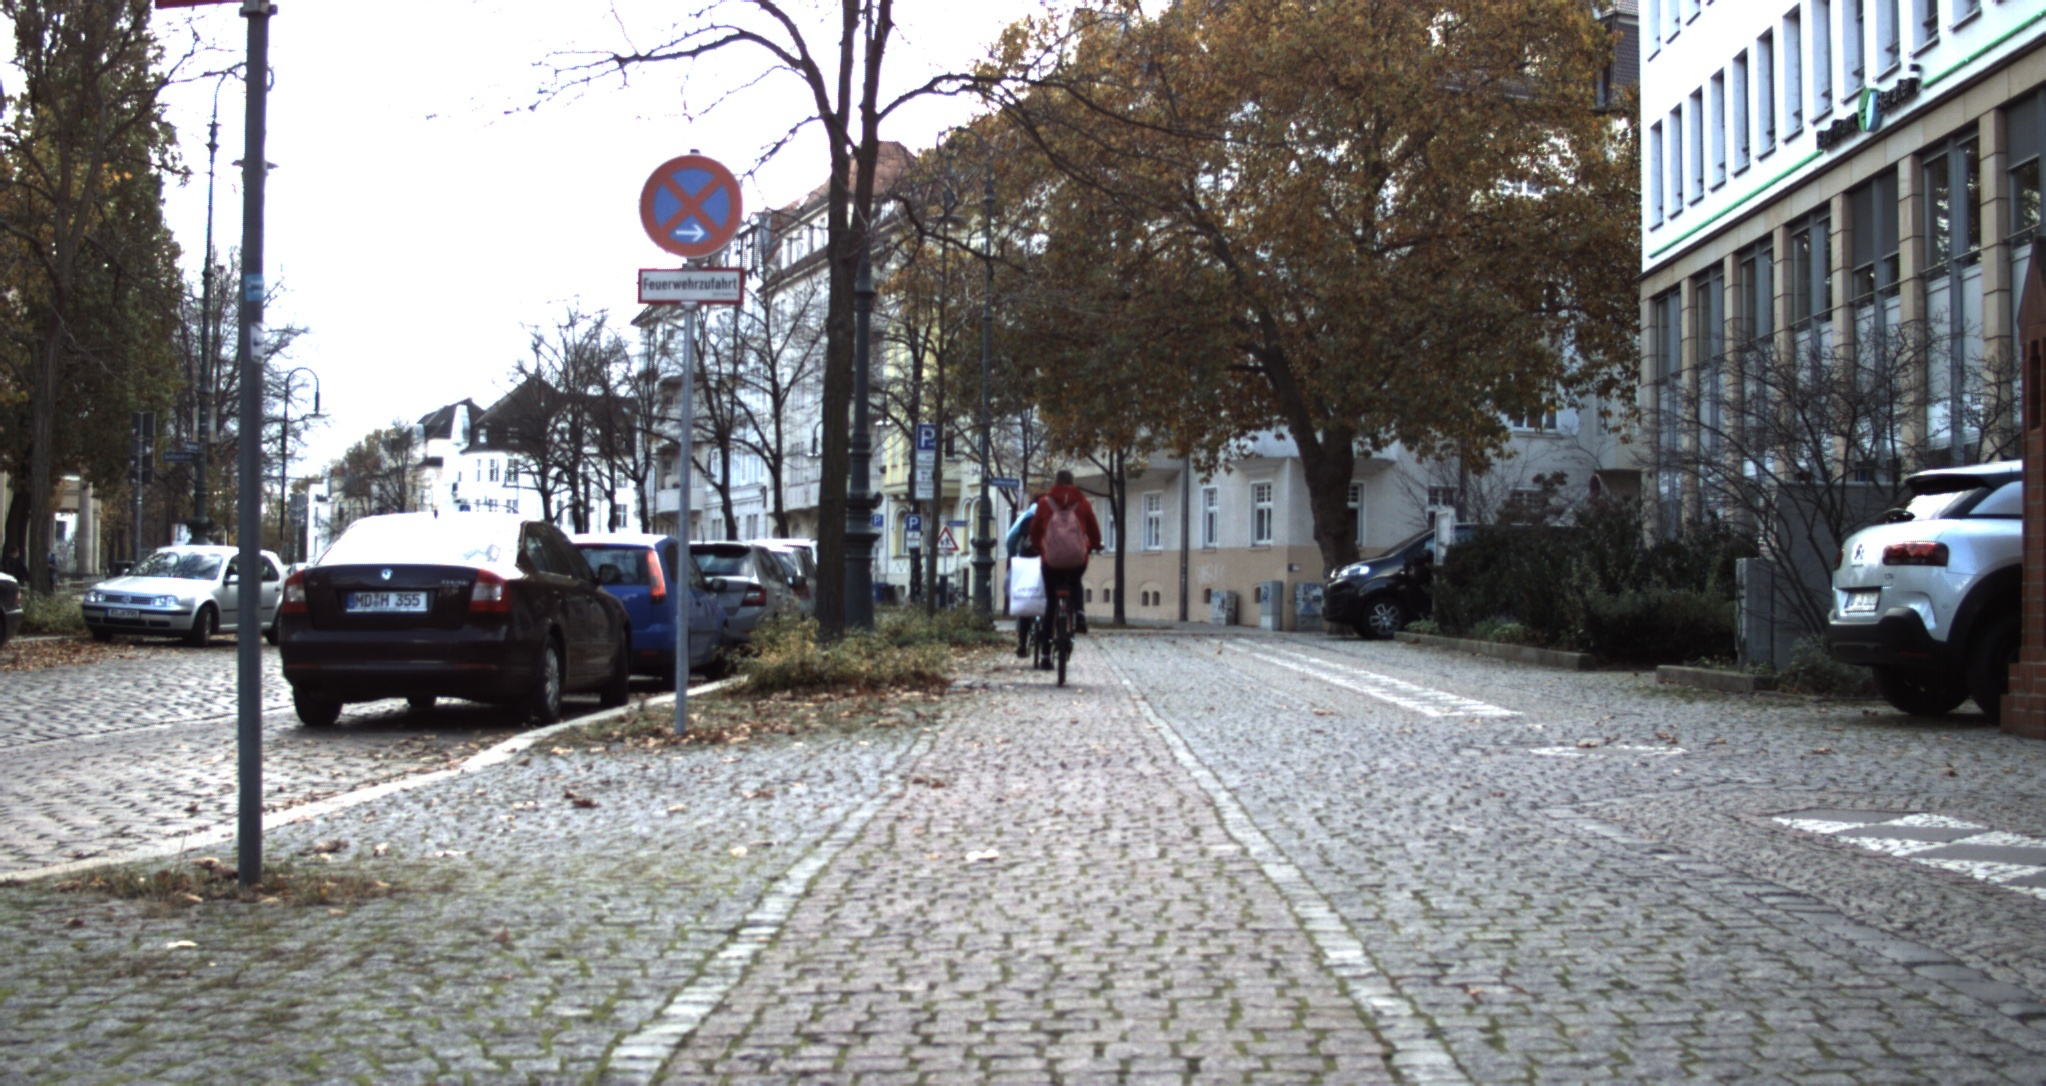car: (279, 507, 634, 725), (1824, 457, 2023, 720), (566, 534, 735, 683), (81, 544, 290, 645), (688, 539, 806, 655)
cyclist with bicycle: (1008, 468, 1104, 687)
trafficsign_Ende Parken: (918, 423, 935, 450)
trafficsign_Parken: (905, 514, 921, 532)
trafficsign_miscellaneous traffic signs: (638, 152, 744, 259)
trafficsign_sonstiges Gefahrenzeichen: (937, 527, 957, 549)
transporter: (1320, 522, 1594, 639)
